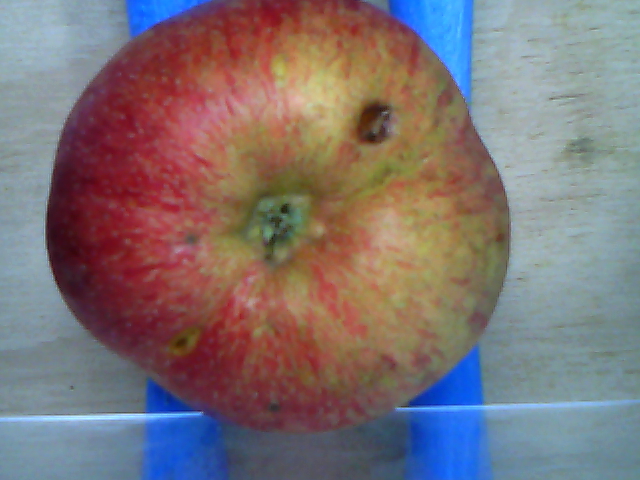cut: (368, 107, 392, 138)
